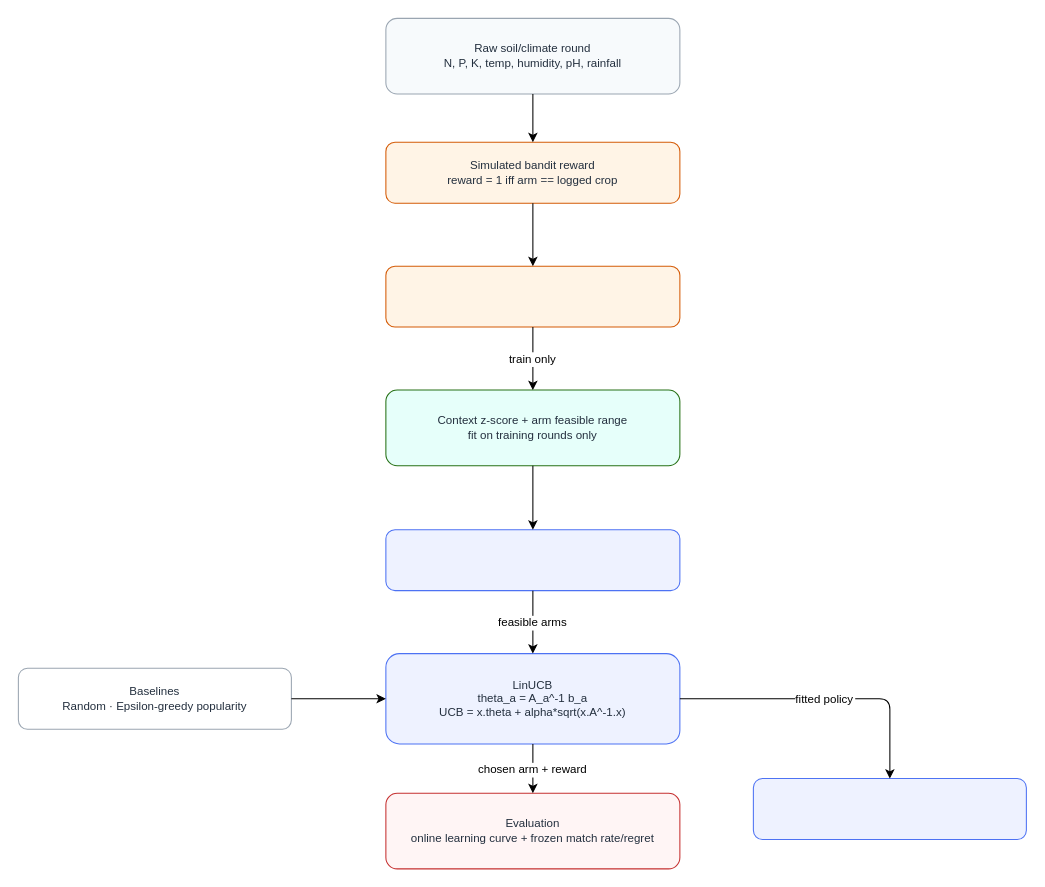
Some shapes in this 1045 by 887 pixel diagram are drawn without their labels. The centre of each missing label's shape, as x and y in pixels:
Agronomic feasibility filter exclude arms outside observed range: [532,560]
Policy serialization A, b, scaler, ranges -> JSON: [889,808]
Row-level random holdout train = replay stream: [532,296]
